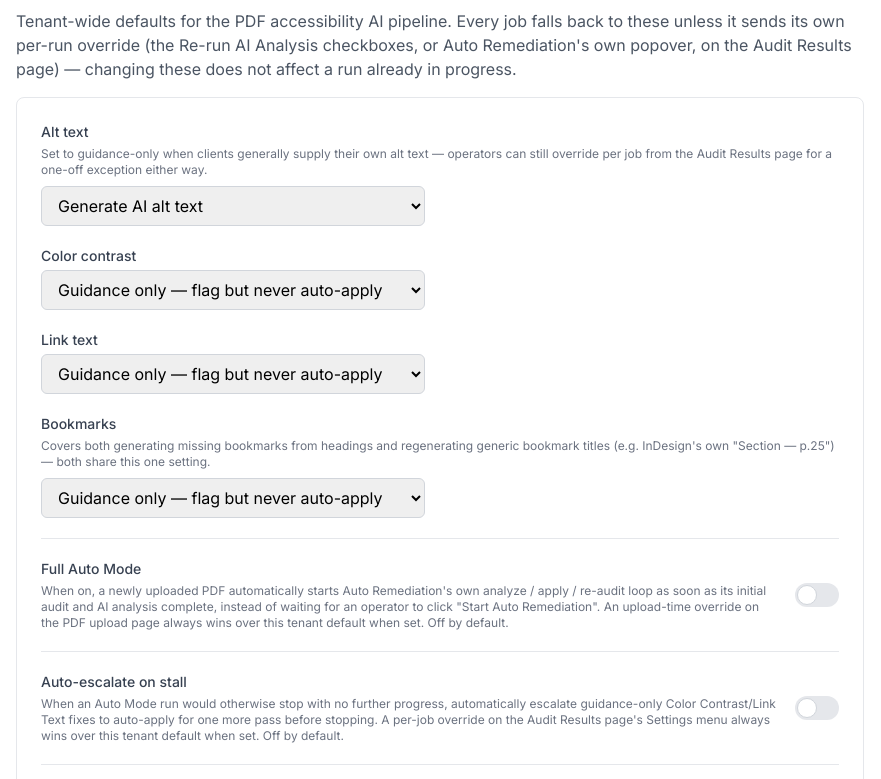
TenantWorkflowSettings — PDF AI Remediation tenant defaults › disables the Save button until at least one select actually differs from the saved values
(page scrolled)
Select "Disabled — skip link text entirely" in the dropdown labelled "Link text" at coordinates (233, 374), box left=41, top=354, right=425, bottom=394
(page scrolled)
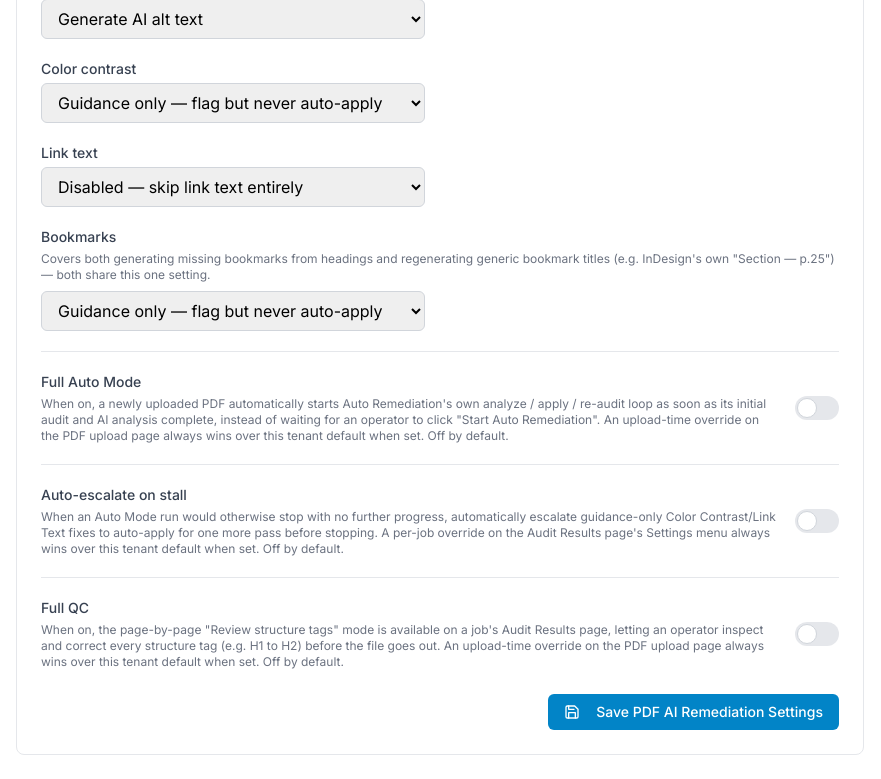
Check: the button "Save PDF AI Remediation Settings" is enabled, box left=548, top=694, right=839, bottom=730
